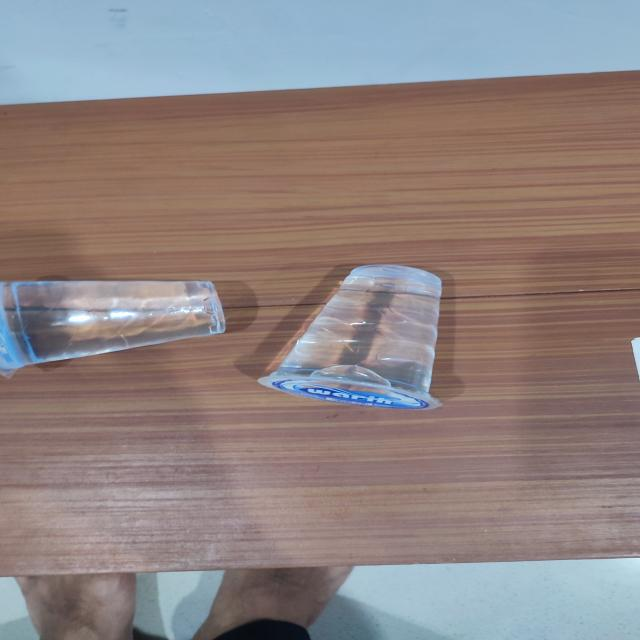air gelas: (260, 261, 450, 416), (1, 270, 233, 371)
